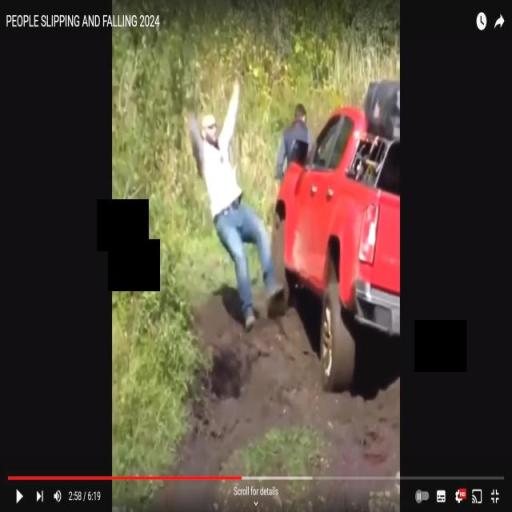Fall: (183, 69, 288, 335)
